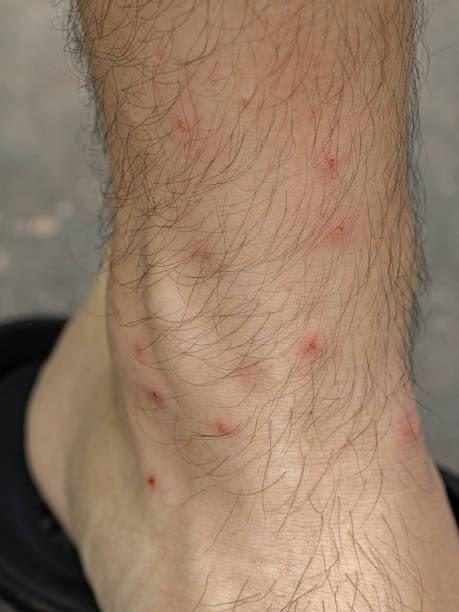Mites: (124, 328, 233, 498), (311, 139, 365, 262), (286, 318, 336, 368), (158, 99, 208, 148), (134, 445, 176, 503), (137, 375, 182, 419), (394, 408, 427, 465)
